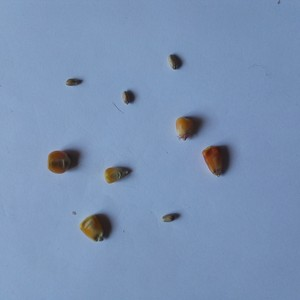maiz: (200, 144, 232, 180), (79, 212, 111, 245), (171, 113, 198, 142), (102, 161, 133, 186), (46, 148, 72, 177)
trigo: (167, 52, 184, 71), (64, 75, 85, 87), (120, 88, 134, 105), (160, 212, 176, 224)
